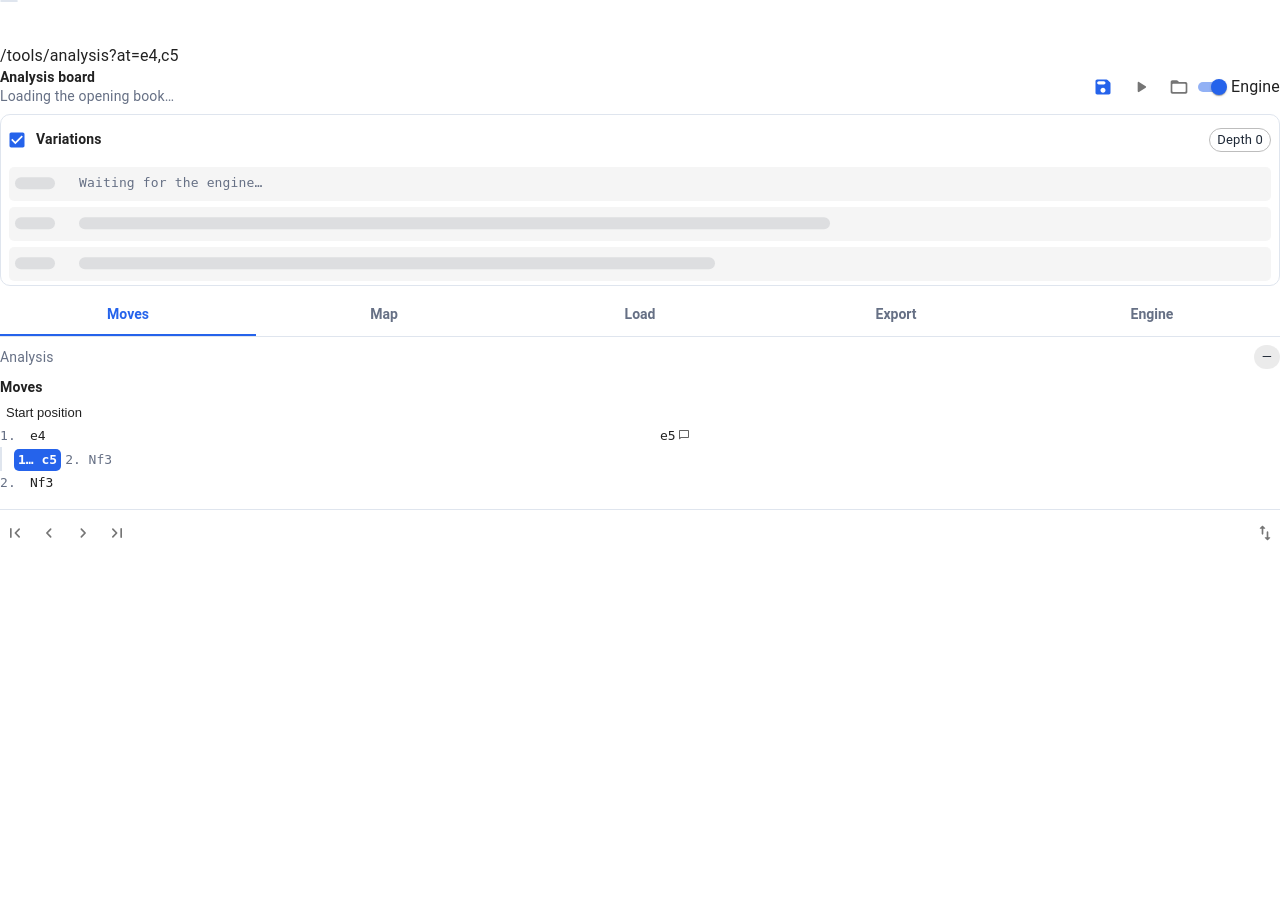
a whole tree handed over by the Openings explorer (CTA-78) › is a new board, not saved: Save names it, and a reload asks first
The image size is (1280, 900).
What coordinates should you click on to do the following:
click the button with test id "analysis-save"
I would click on:
 (1103, 87)
Its box is x1=1088 y1=72 x2=1118 y2=102.
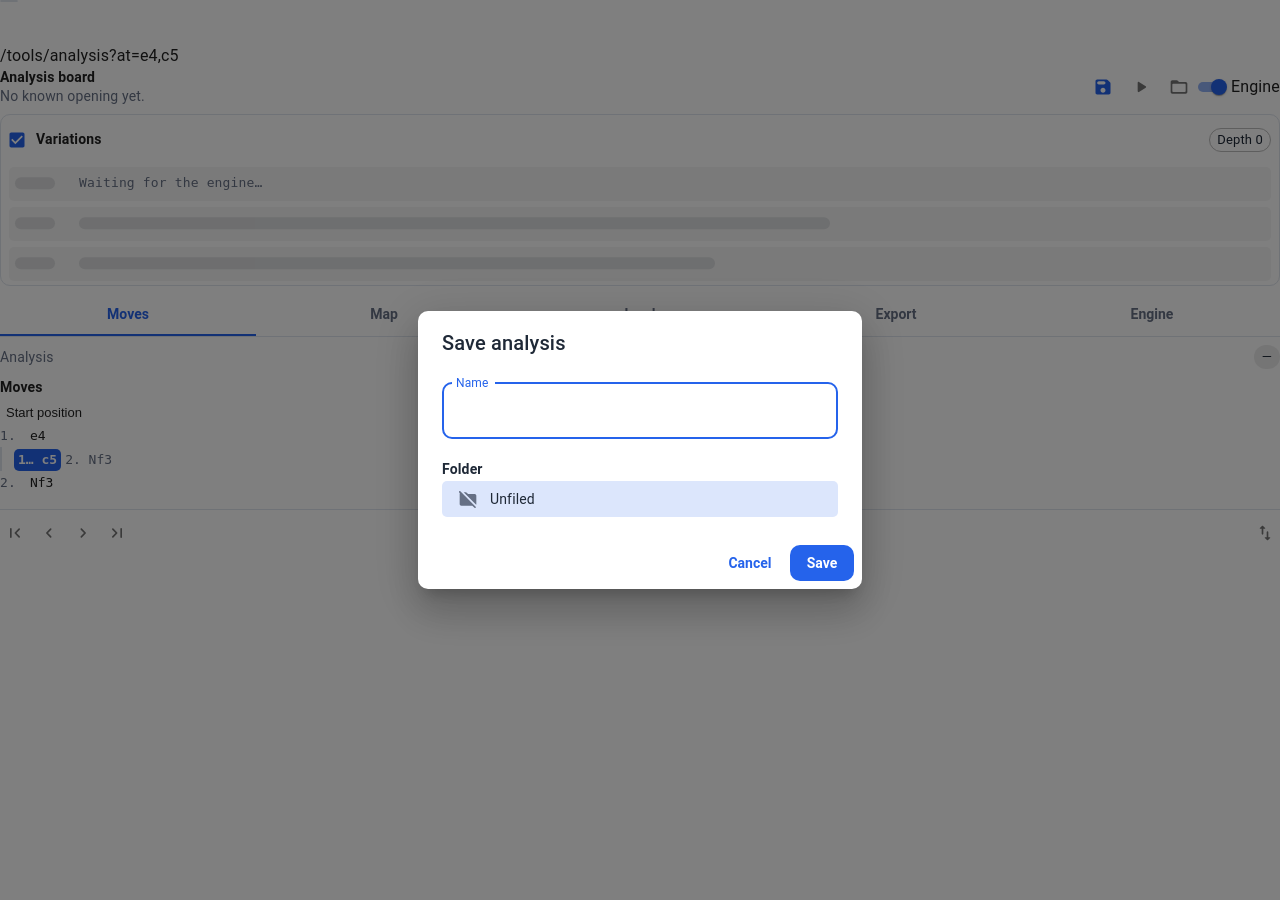
Check: the field with test id "analysis-save-name" is shown, box x1=442 y1=383 x2=838 y2=439
